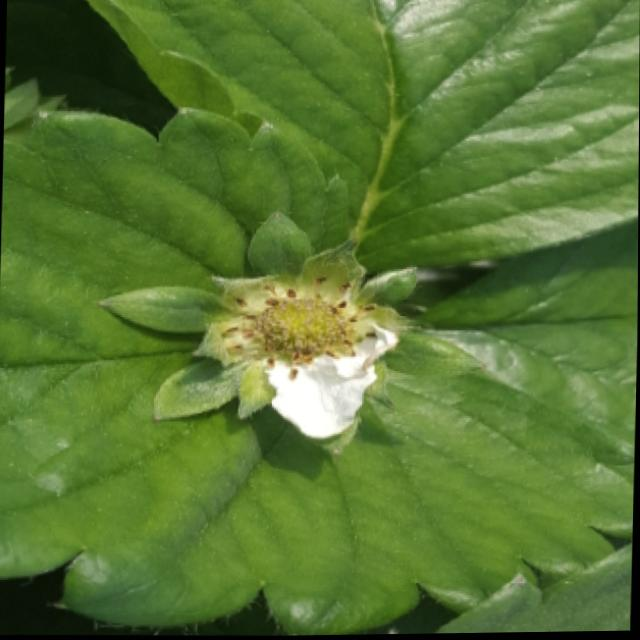Blossom Blight: (213, 270, 384, 385)
